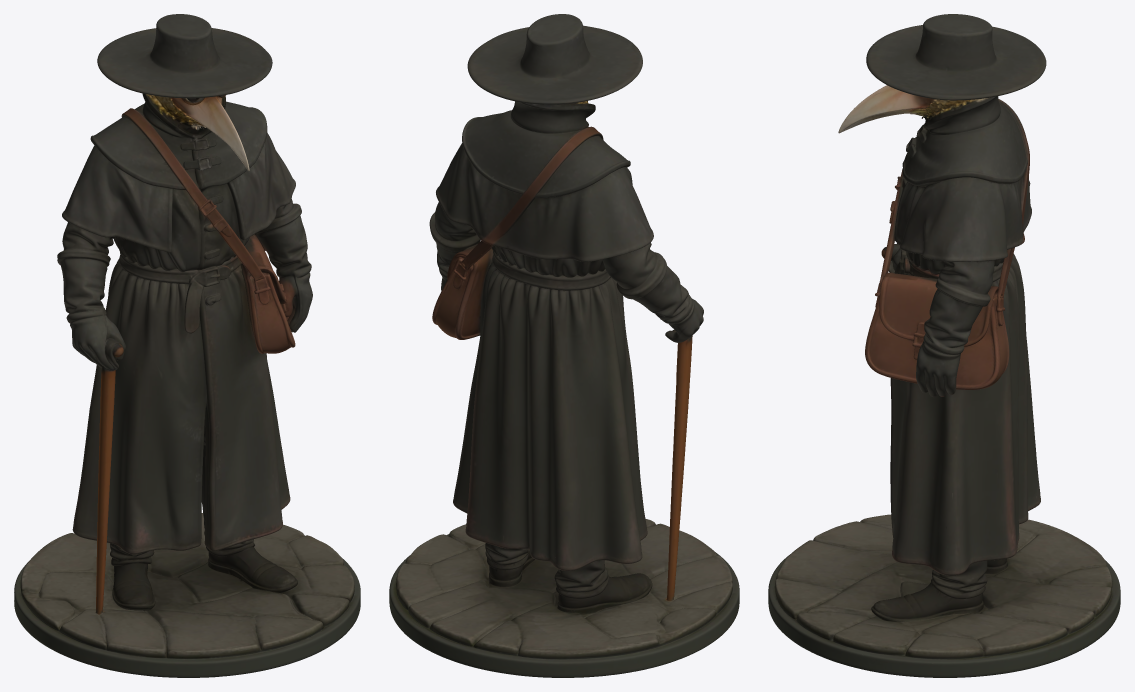
The model's file is agent-01.glb.
3 views of the same model, side by side, from view 1: azimuth 30°, elevation 25°; view 2: azimuth 150°, elevation 25°; view 3: azimuth 270°, elevation 25° (orthographic).
Visible parts, largest first — view 1: material; view 2: material; view 3: material.
Boxes of the visible parts, x1,y1,x2,y2 form: material: (14, 14, 360, 677); material: (389, 14, 739, 677); material: (768, 14, 1120, 677).
Size of the model in its own units: 0.5765 by 1.06 by 0.5798.
1 material, 1 textured.
